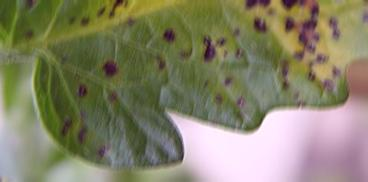Tomato Septoria leaf spot: (0, 0, 368, 177)
